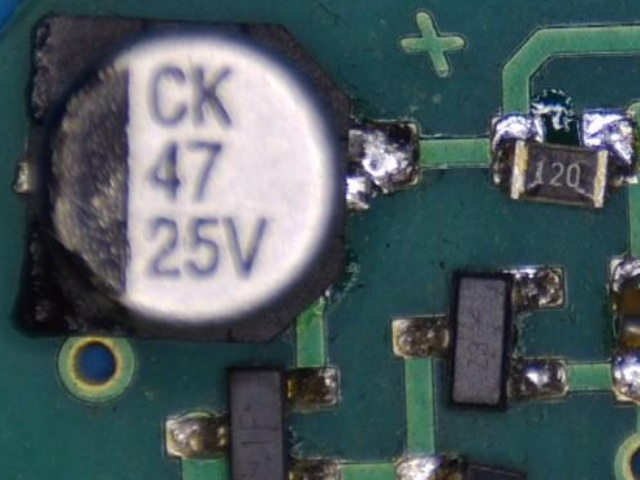pcb_defect: (15, 14, 418, 344), (491, 112, 639, 209), (395, 454, 574, 480), (611, 258, 640, 403)
